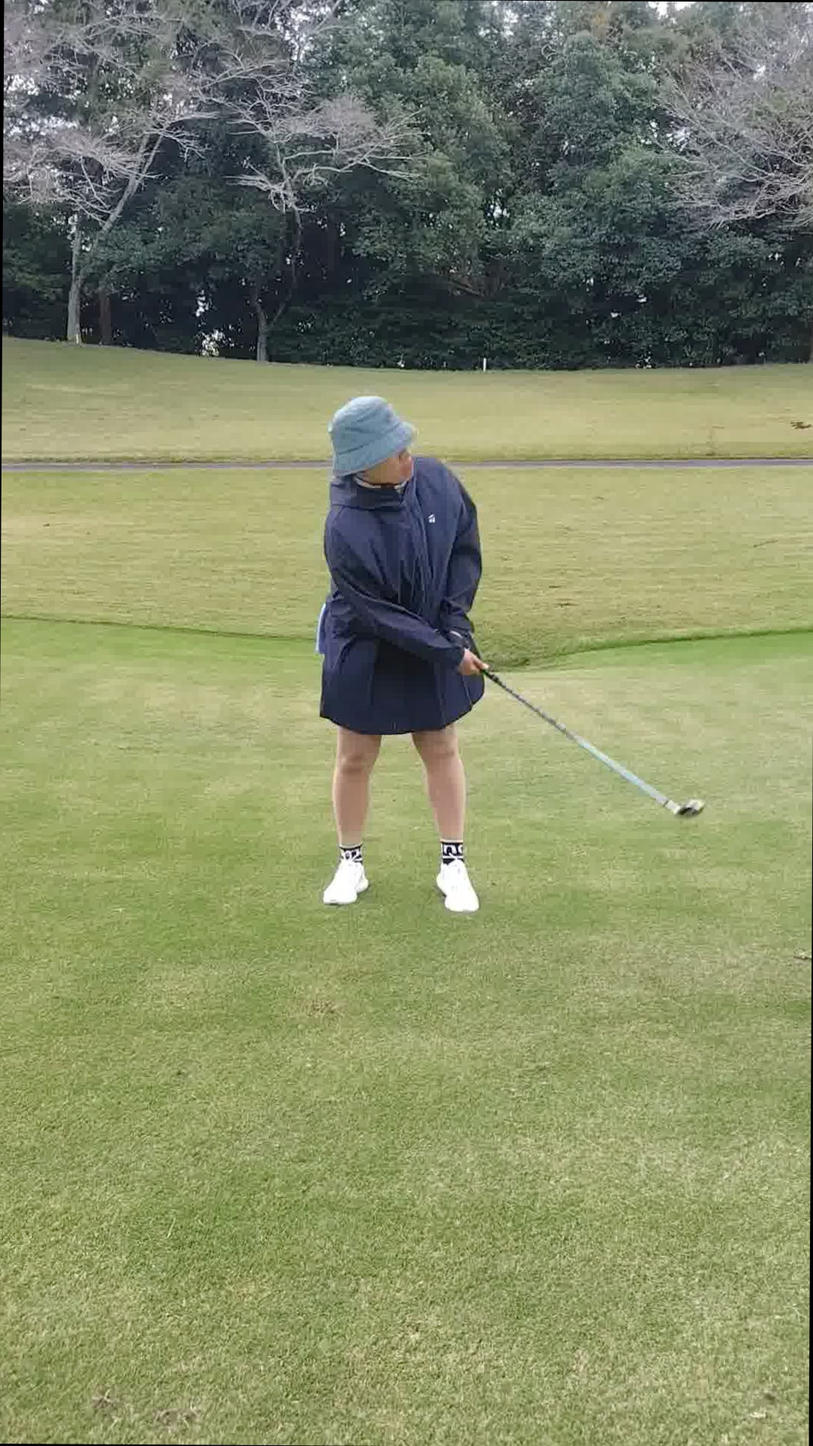clubhead: (611, 739, 770, 933)
